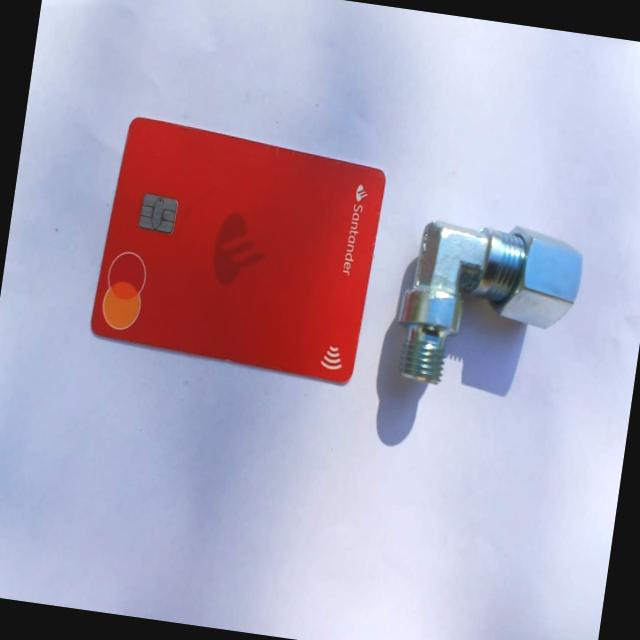cartao: (80, 102, 398, 400)
rosca_externa: (382, 196, 596, 417)
